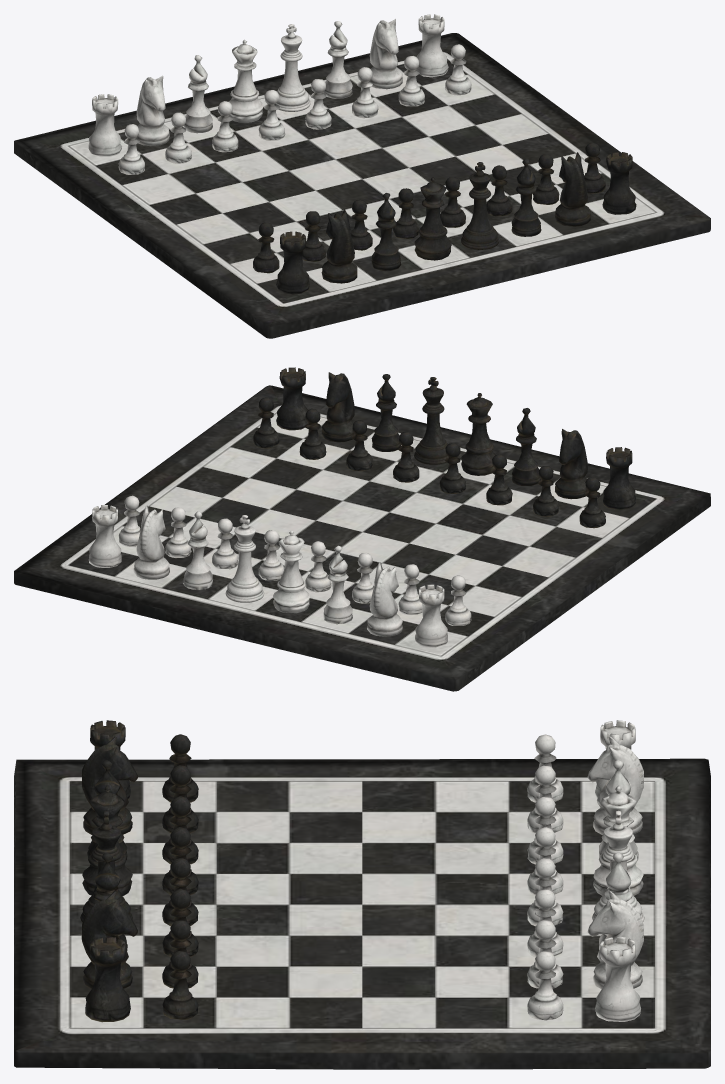
File: ph_chess_set.glb
The picture shows the model from 3 angles, top to bottom: view 1: azimuth 30°, elevation 25°; view 2: azimuth 150°, elevation 25°; view 3: azimuth 270°, elevation 25°; orthographic projection. The views are drawn at different scales.
Visible parts, largest first — view 1: board, piece_rook_black_01, piece_rook_white_01, piece_king_black, piece_king_white; view 2: board, piece_rook_white_01, piece_rook_black_01, piece_king_white, piece_king_black; view 3: board, piece_rook_white_01, piece_rook_black_01, piece_king_black, piece_king_white.
Part boxes in pixels (<box>): board: <box>14,33,710,338</box>; piece_rook_black_01: <box>253,142,636,294</box>; piece_rook_white_01: <box>88,14,471,174</box>; piece_king_black: <box>461,162,499,249</box>; piece_king_white: <box>275,24,310,111</box>; board: <box>14,385,710,691</box>; piece_rook_white_01: <box>88,495,471,647</box>; piece_rook_black_01: <box>253,367,635,528</box>; piece_king_white: <box>225,515,264,602</box>; piece_king_black: <box>414,377,448,464</box>; board: <box>14,758,710,1069</box>; piece_rook_white_01: <box>527,720,643,1021</box>; piece_rook_black_01: <box>81,720,198,1022</box>; piece_king_black: <box>80,811,132,922</box>; piece_king_white: <box>592,810,644,921</box>.
Bounding box in the file's own units: 0.5526 × 0.1124 × 0.5519.
3 materials, 3 textured.
